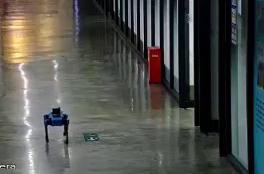robot dog: (41, 104, 70, 146)
